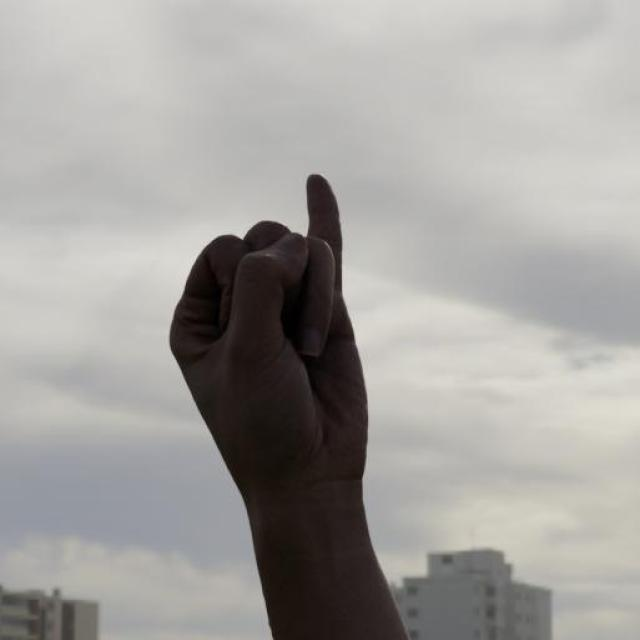I: (123, 140, 458, 614)
